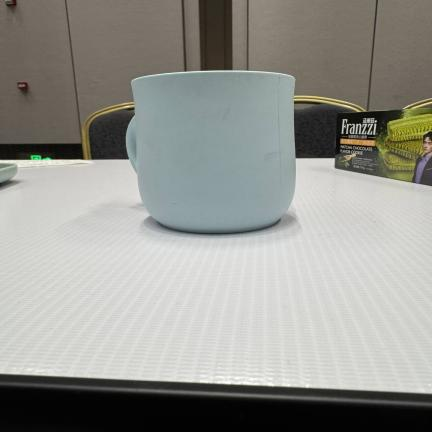cup: (126, 71, 295, 233)
